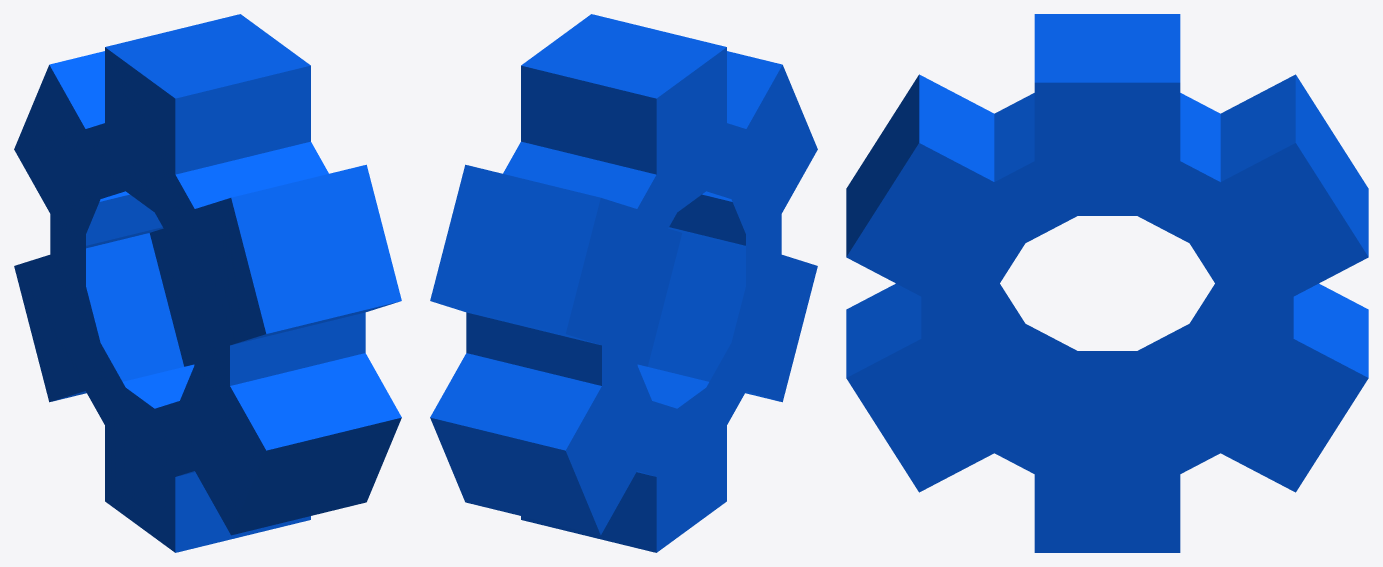
File: cryptex_5.fbx
The picture shows the model from 3 angles, left to right: view 1: azimuth 30°, elevation 25°; view 2: azimuth 150°, elevation 25°; view 3: azimuth 270°, elevation 25°; orthographic projection. The views are drawn at different scales.
Visible parts, largest first — view 1: Object018; view 2: Object018; view 3: Object018.
Boxes of the visible parts, x1,y1,x2,y2 form: Object018: [14, 14, 401, 552]; Object018: [430, 14, 817, 552]; Object018: [846, 14, 1368, 552].
Size of the model in its own units: 0.0219 by 0.0702 by 0.0707.
